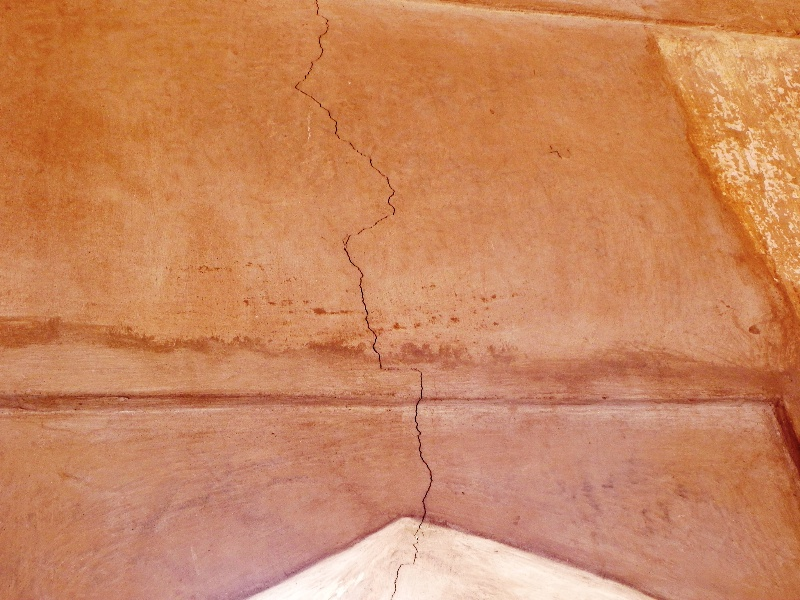Crack: (286, 2, 425, 393), (387, 398, 441, 594)
